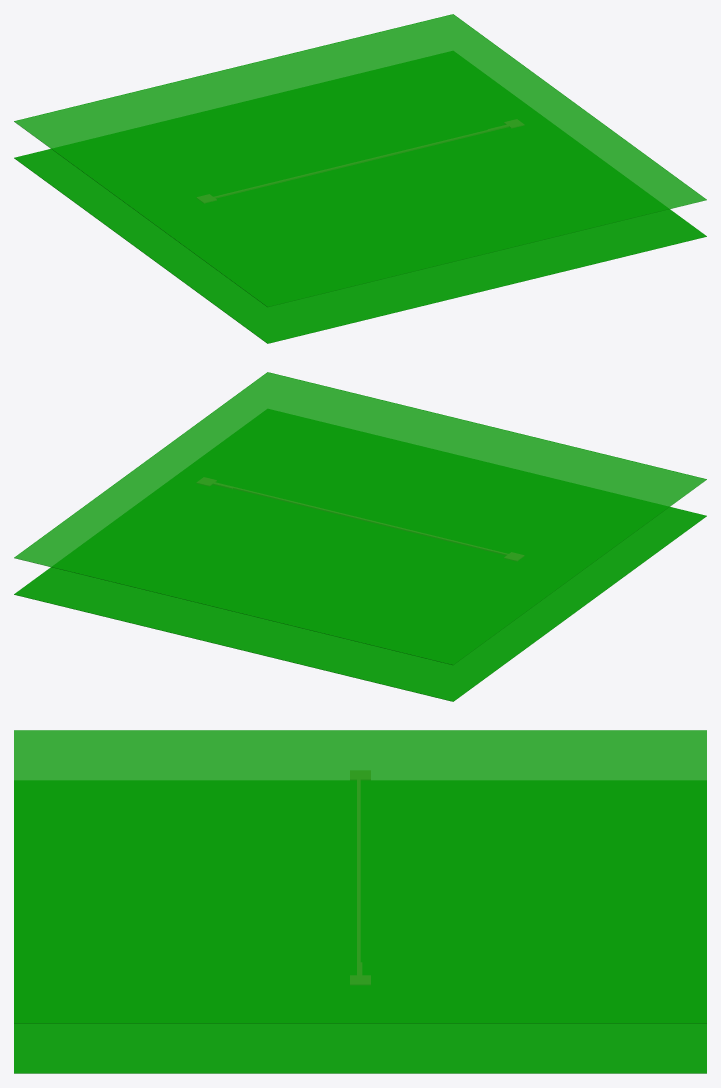
File: board.glb
3 views of the same model, one above another, from view 1: azimuth 30°, elevation 25°; view 2: azimuth 150°, elevation 25°; view 3: azimuth 270°, elevation 25° (orthographic). The views are drawn at different scales.
Parts seen in each view (by area): view 1: Substrate_Layer_0_Z0, Substrate_Layer_1_Z0, Unified_Net_2_Island_0; view 2: Substrate_Layer_0_Z0, Substrate_Layer_1_Z0, Unified_Net_2_Island_0; view 3: Substrate_Layer_0_Z0, Substrate_Layer_1_Z0, Unified_Net_2_Island_0.
Boxes of the visible parts, x1=… form: Substrate_Layer_0_Z0: x1=14, y1=14, x2=706, y2=307; Substrate_Layer_1_Z0: x1=14, y1=51, x2=706, y2=343; Unified_Net_2_Island_0: x1=214, y1=125, x2=508, y2=197; Substrate_Layer_0_Z0: x1=14, y1=372, x2=706, y2=665; Substrate_Layer_1_Z0: x1=14, y1=409, x2=706, y2=701; Unified_Net_2_Island_0: x1=206, y1=481, x2=514, y2=556; Substrate_Layer_0_Z0: x1=14, y1=730, x2=706, y2=1023; Substrate_Layer_1_Z0: x1=14, y1=781, x2=706, y2=1073; Unified_Net_2_Island_0: x1=357, y1=774, x2=361, y2=978.
Bounding box in the file's own units: 0.02 × 0.00161 × 0.02.
